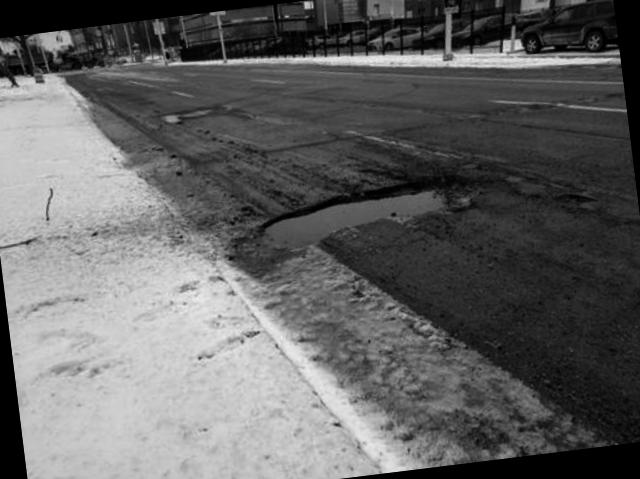Pothole: (262, 180, 464, 248)
